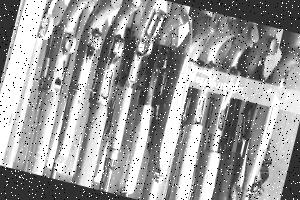shotgun: (139, 8, 218, 200), (115, 4, 190, 199), (97, 0, 171, 192), (163, 16, 240, 200), (70, 0, 143, 189), (20, 0, 97, 176), (49, 0, 123, 180), (189, 21, 261, 200), (214, 26, 280, 200), (0, 0, 67, 167), (237, 30, 300, 200)
